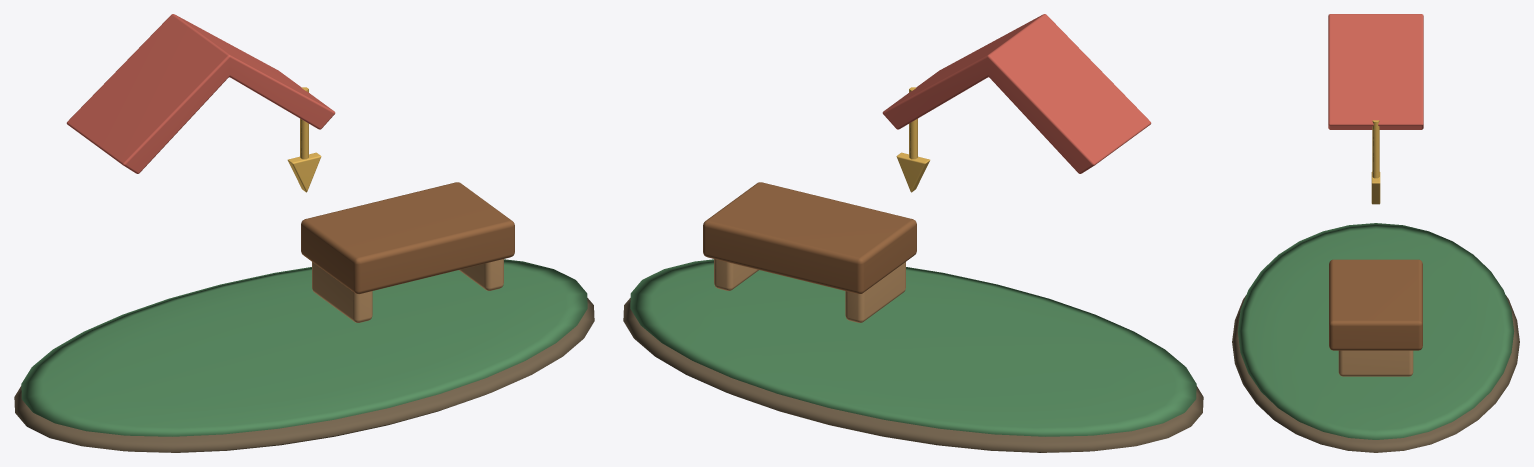
File: complete-second-shelter-low-base.glb
3 views of the same model, side by side, from view 1: azimuth 30°, elevation 25°; view 2: azimuth 150°, elevation 25°; view 3: azimuth 270°, elevation 25° (orthographic). The views are drawn at different scales.
Parts seen in each view (by area): view 1: complete-second-shelter-low-base_surface_01, complete-second-shelter-low-base_surface_02, complete-second-shelter-low-base_surface_03, complete-second-shelter-low-base_surface_00, complete-second-shelter-low-base_surface_04, complete-second-shelter-low-base_surface_05; view 2: complete-second-shelter-low-base_surface_01, complete-second-shelter-low-base_surface_02, complete-second-shelter-low-base_surface_03, complete-second-shelter-low-base_surface_00, complete-second-shelter-low-base_surface_04, complete-second-shelter-low-base_surface_05; view 3: complete-second-shelter-low-base_surface_01, complete-second-shelter-low-base_surface_02, complete-second-shelter-low-base_surface_03, complete-second-shelter-low-base_surface_00, complete-second-shelter-low-base_surface_04, complete-second-shelter-low-base_surface_05.
Boxes of the visible parts, bbox=[...] form: complete-second-shelter-low-base_surface_01: bbox=[21, 259, 587, 436]; complete-second-shelter-low-base_surface_02: bbox=[66, 14, 335, 173]; complete-second-shelter-low-base_surface_03: bbox=[301, 182, 514, 294]; complete-second-shelter-low-base_surface_00: bbox=[14, 298, 594, 452]; complete-second-shelter-low-base_surface_04: bbox=[312, 259, 503, 322]; complete-second-shelter-low-base_surface_05: bbox=[287, 87, 321, 192]; complete-second-shelter-low-base_surface_01: bbox=[630, 259, 1196, 436]; complete-second-shelter-low-base_surface_02: bbox=[882, 14, 1151, 173]; complete-second-shelter-low-base_surface_03: bbox=[703, 182, 916, 294]; complete-second-shelter-low-base_surface_00: bbox=[623, 298, 1203, 452]; complete-second-shelter-low-base_surface_04: bbox=[714, 259, 905, 322]; complete-second-shelter-low-base_surface_05: bbox=[896, 87, 930, 192]; complete-second-shelter-low-base_surface_01: bbox=[1237, 223, 1514, 439]; complete-second-shelter-low-base_surface_02: bbox=[1328, 14, 1423, 129]; complete-second-shelter-low-base_surface_03: bbox=[1329, 259, 1422, 350]; complete-second-shelter-low-base_surface_00: bbox=[1232, 295, 1519, 452]; complete-second-shelter-low-base_surface_04: bbox=[1338, 350, 1413, 376]; complete-second-shelter-low-base_surface_05: bbox=[1371, 120, 1380, 204].
Size of the model in its own units: 4.56 by 2.87 by 2.5.
